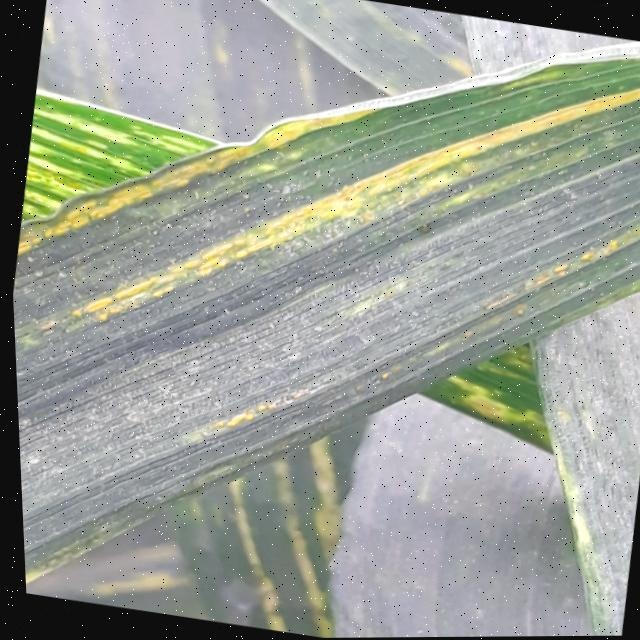yellow_rust: (0, 0, 640, 640), (164, 398, 387, 639), (13, 90, 221, 263), (411, 331, 580, 456)
